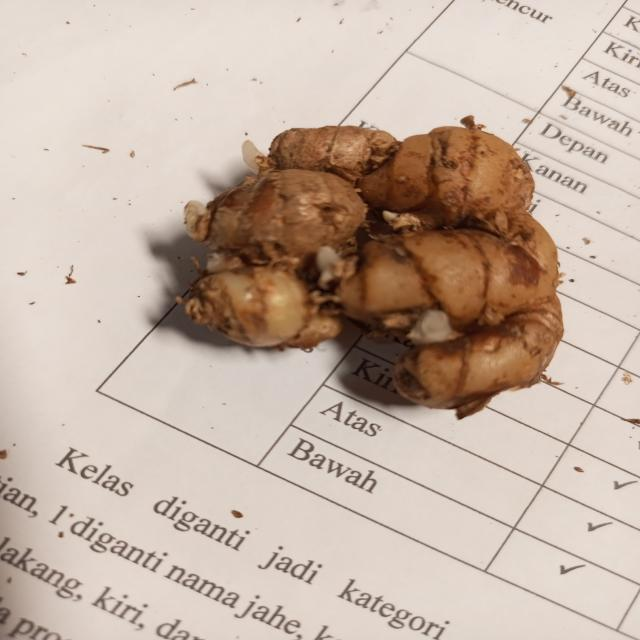ginger: (192, 122, 558, 396)
